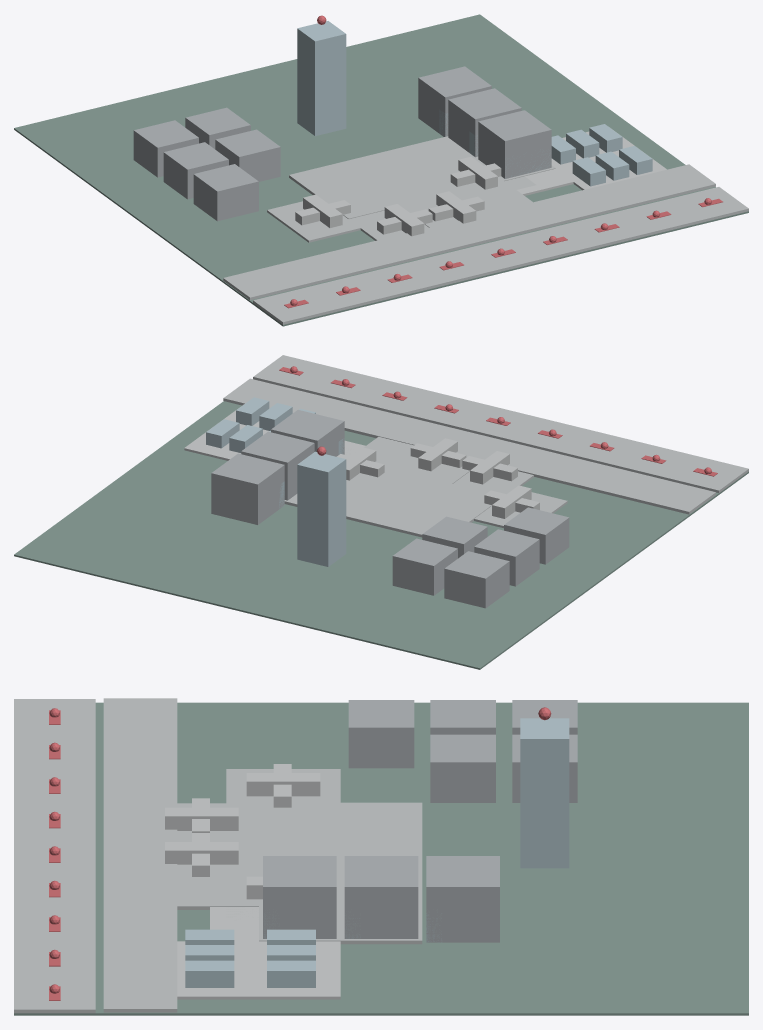
The model's file is stage_21.glb.
3 views of the same model, one above another, from view 1: azimuth 30°, elevation 25°; view 2: azimuth 150°, elevation 25°; view 3: azimuth 270°, elevation 25° (orthographic). The views are drawn at different scales.
Visible parts, largest first — view 1: geometry_0; view 2: geometry_0; view 3: geometry_0.
Boxes of the visible parts, x1,y1,x2,y2 form: geometry_0: (14, 14, 748, 326); geometry_0: (14, 355, 748, 669); geometry_0: (14, 698, 748, 1015).
Bounding box in the file's own units: 9 × 2.06 × 9.
